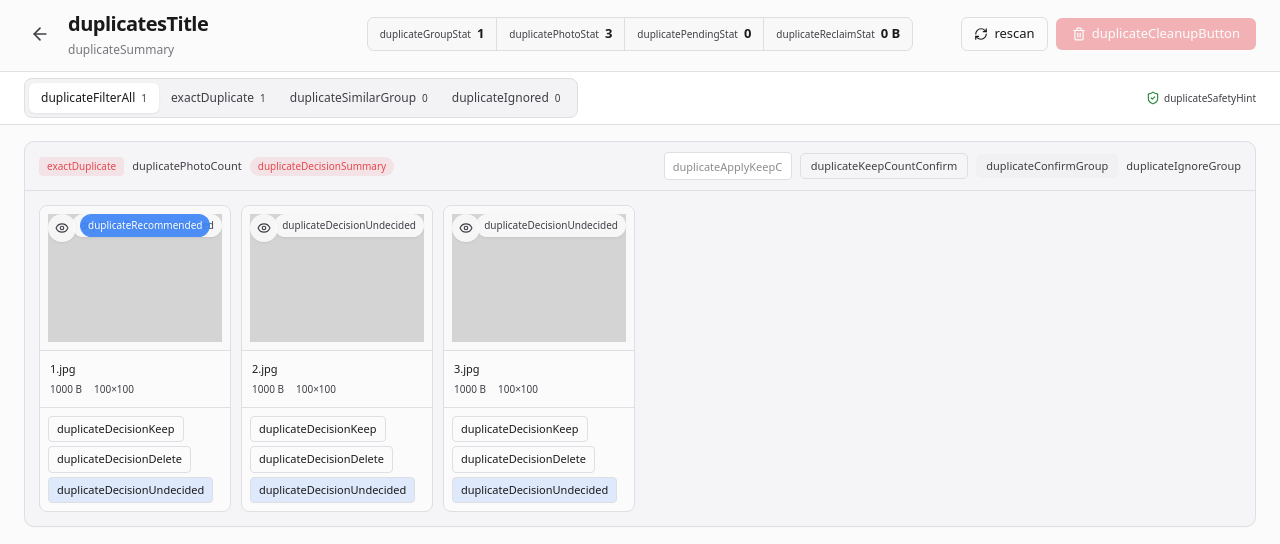
Test case: DuplicatesPage persisted review › keeps all photos without creating an empty deletion plan
Expected: the text "1.jpg" is shown, [50,361,76,376]
Type "3" into the dropdown labelled "duplicateApplyKeepCount" at {"x": 728, "y": 166}, box [664,152,792,180]
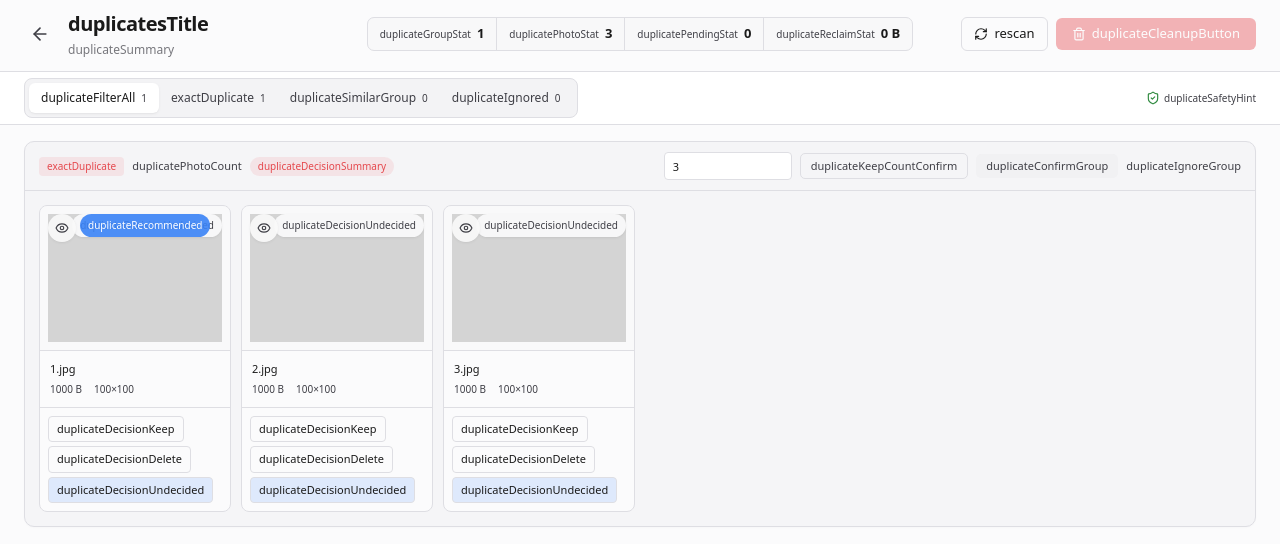
Click the button "duplicateKeepCountConfirm" at {"x": 884, "y": 166}, box [800,153,968,179]
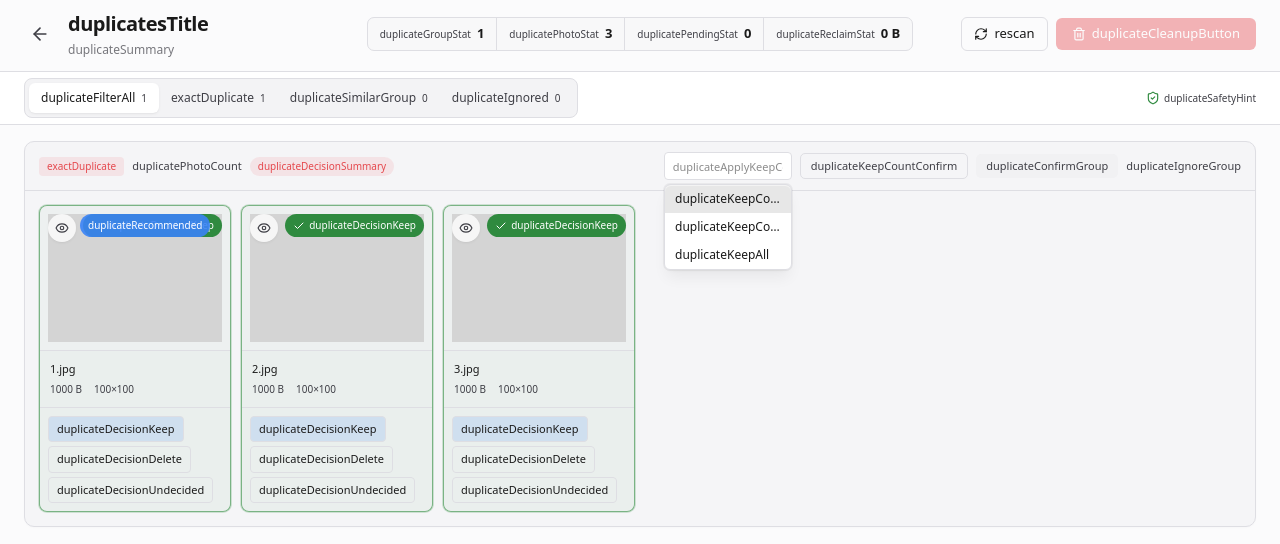
Click the button "duplicateConfirmGroup" at {"x": 1047, "y": 166}, box [976,154,1118,178]
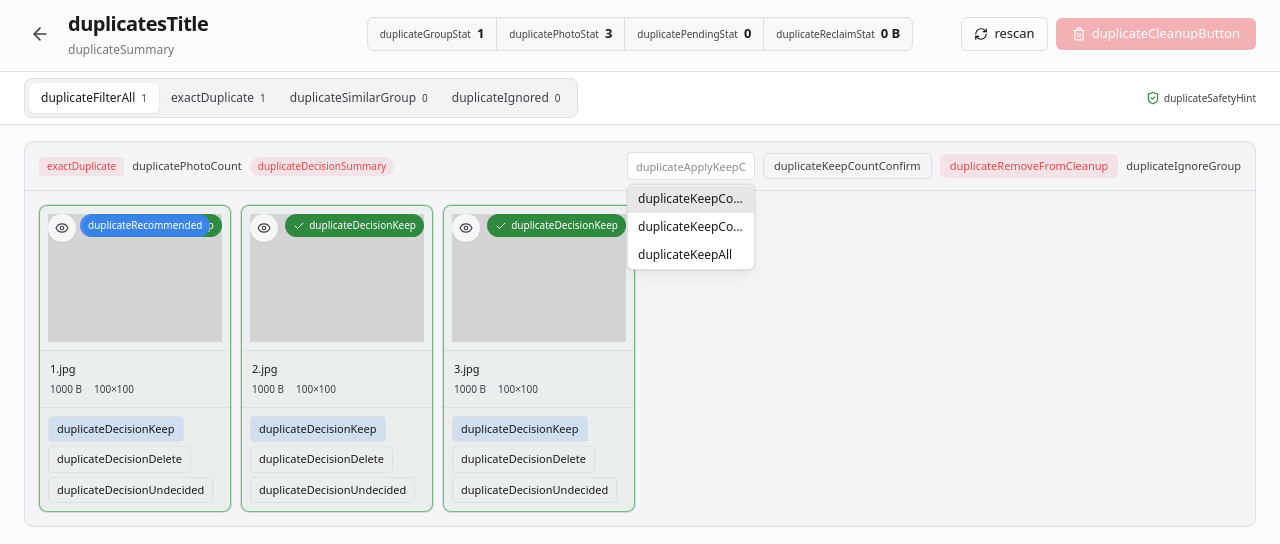
Expected: the button "duplicateCleanupButton" is disabled, [1056,18,1256,50]
Result: the button "duplicateRemoveFromCleanup" is shown at [940,154,1118,178]
